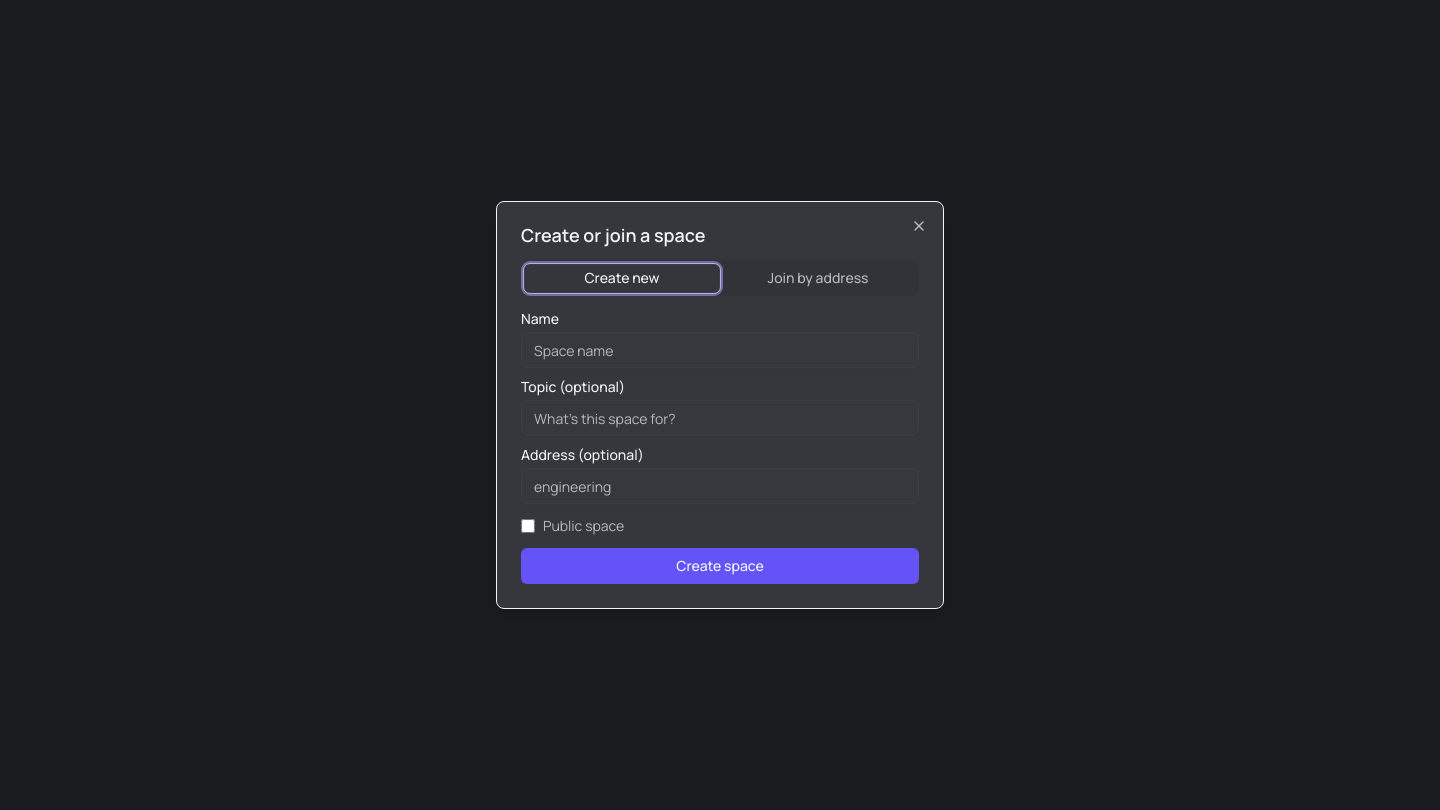
Scenario: CreateJoinSpaceDialog › requires a name before creating
Click the button "Create space" at [720, 566], box [521,548,919,584]
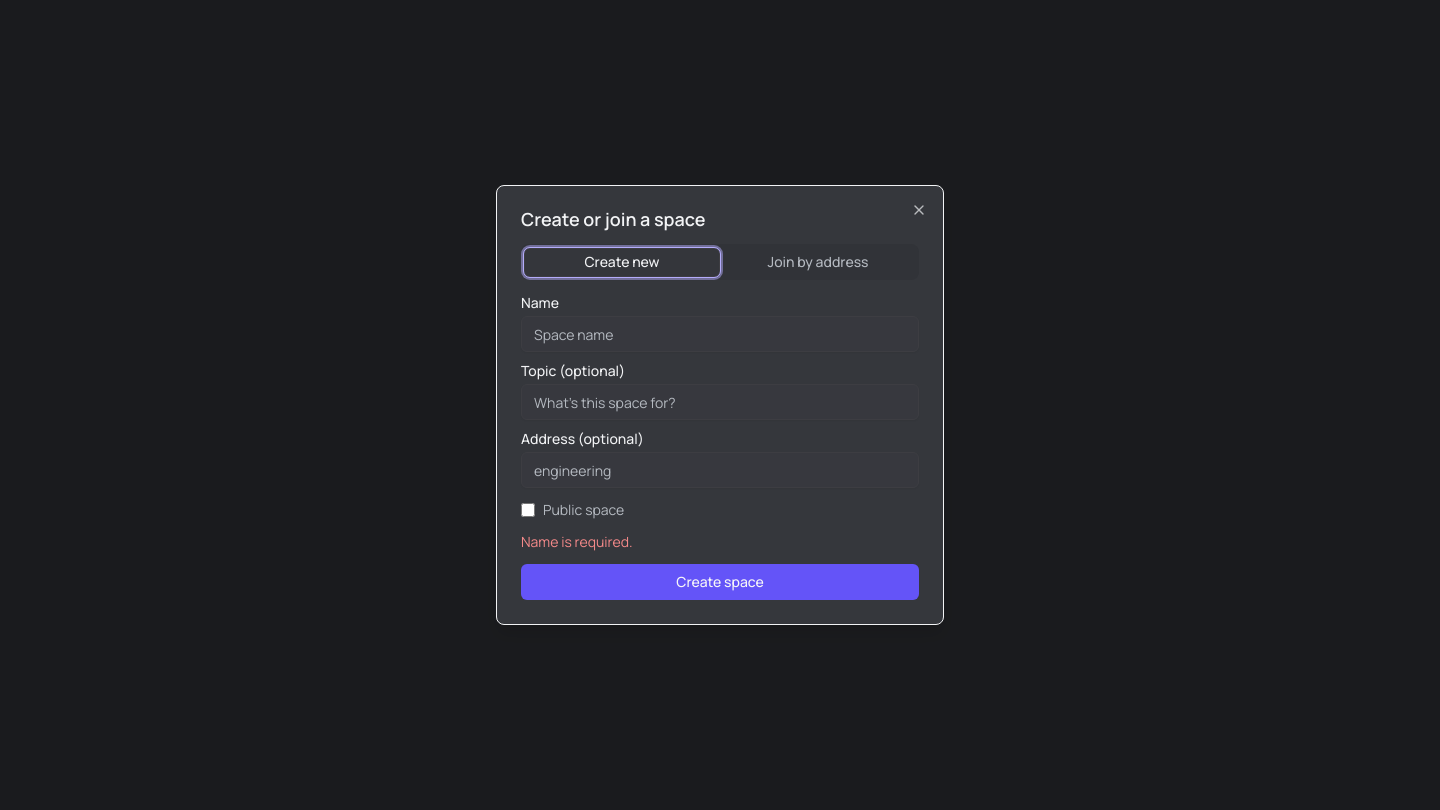
Expected: the text "Name is required." is shown, [521,532,632,551]
